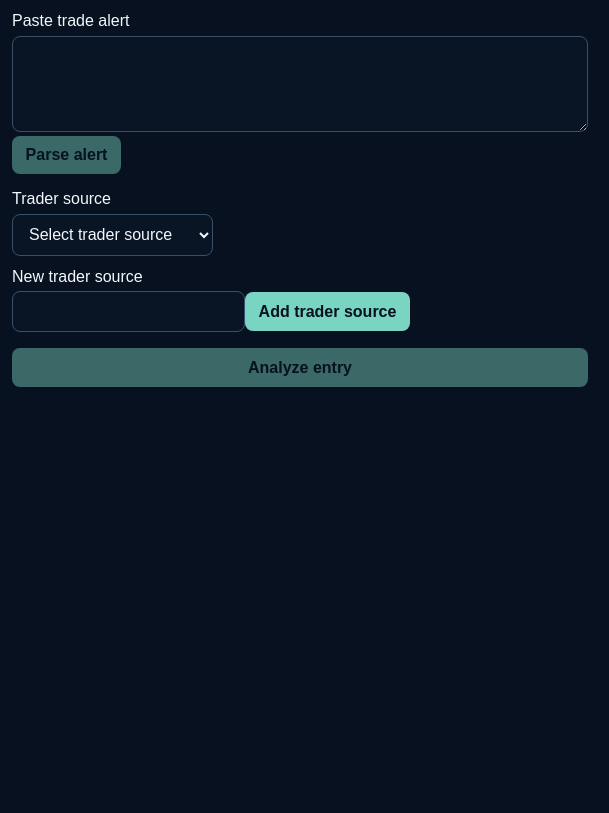
Test: AlertPasteForm › parses a private pasted alert into a preview with its raw text
In the text box labelled "Paste trade alert": (300, 84) [12,36,588,132], type "NBIS 8/14 220c @2.98 ER LOTTO"
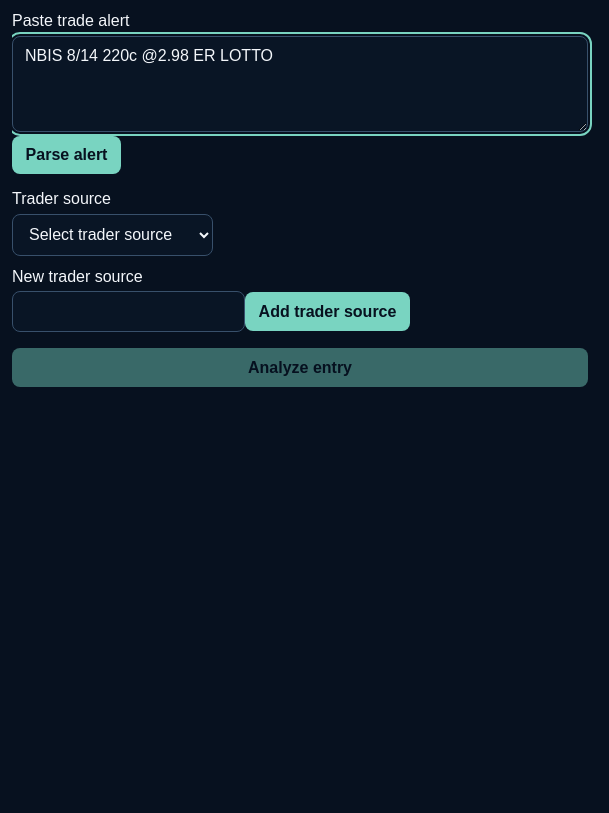
Click the button "Parse alert": (66, 155) [12,136,121,174]
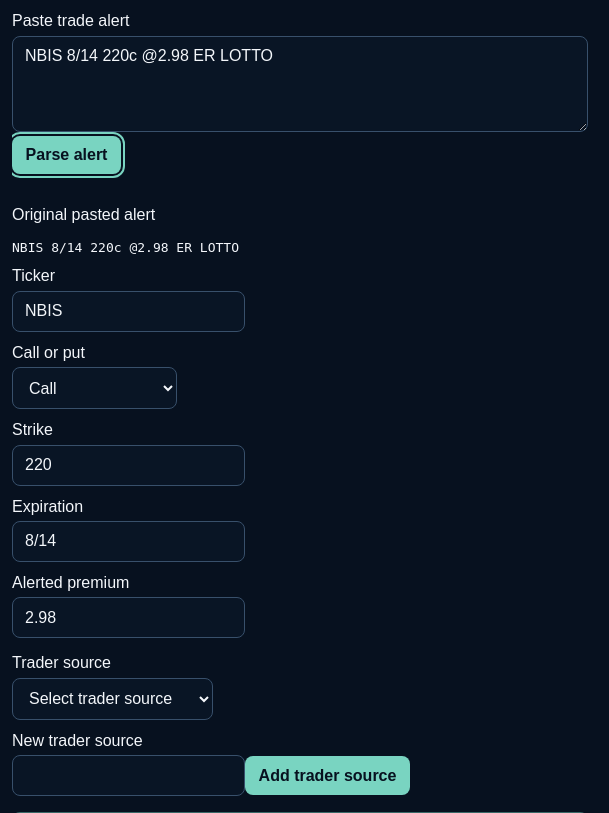
Expected: the field labelled "Ticker" holds "NBIS", [12,291,245,332]
Expected: the text named "Original pasted alert text" reads "NBIS 8/14 220c @2.98 ER LOTTO", [12,240,239,255]
